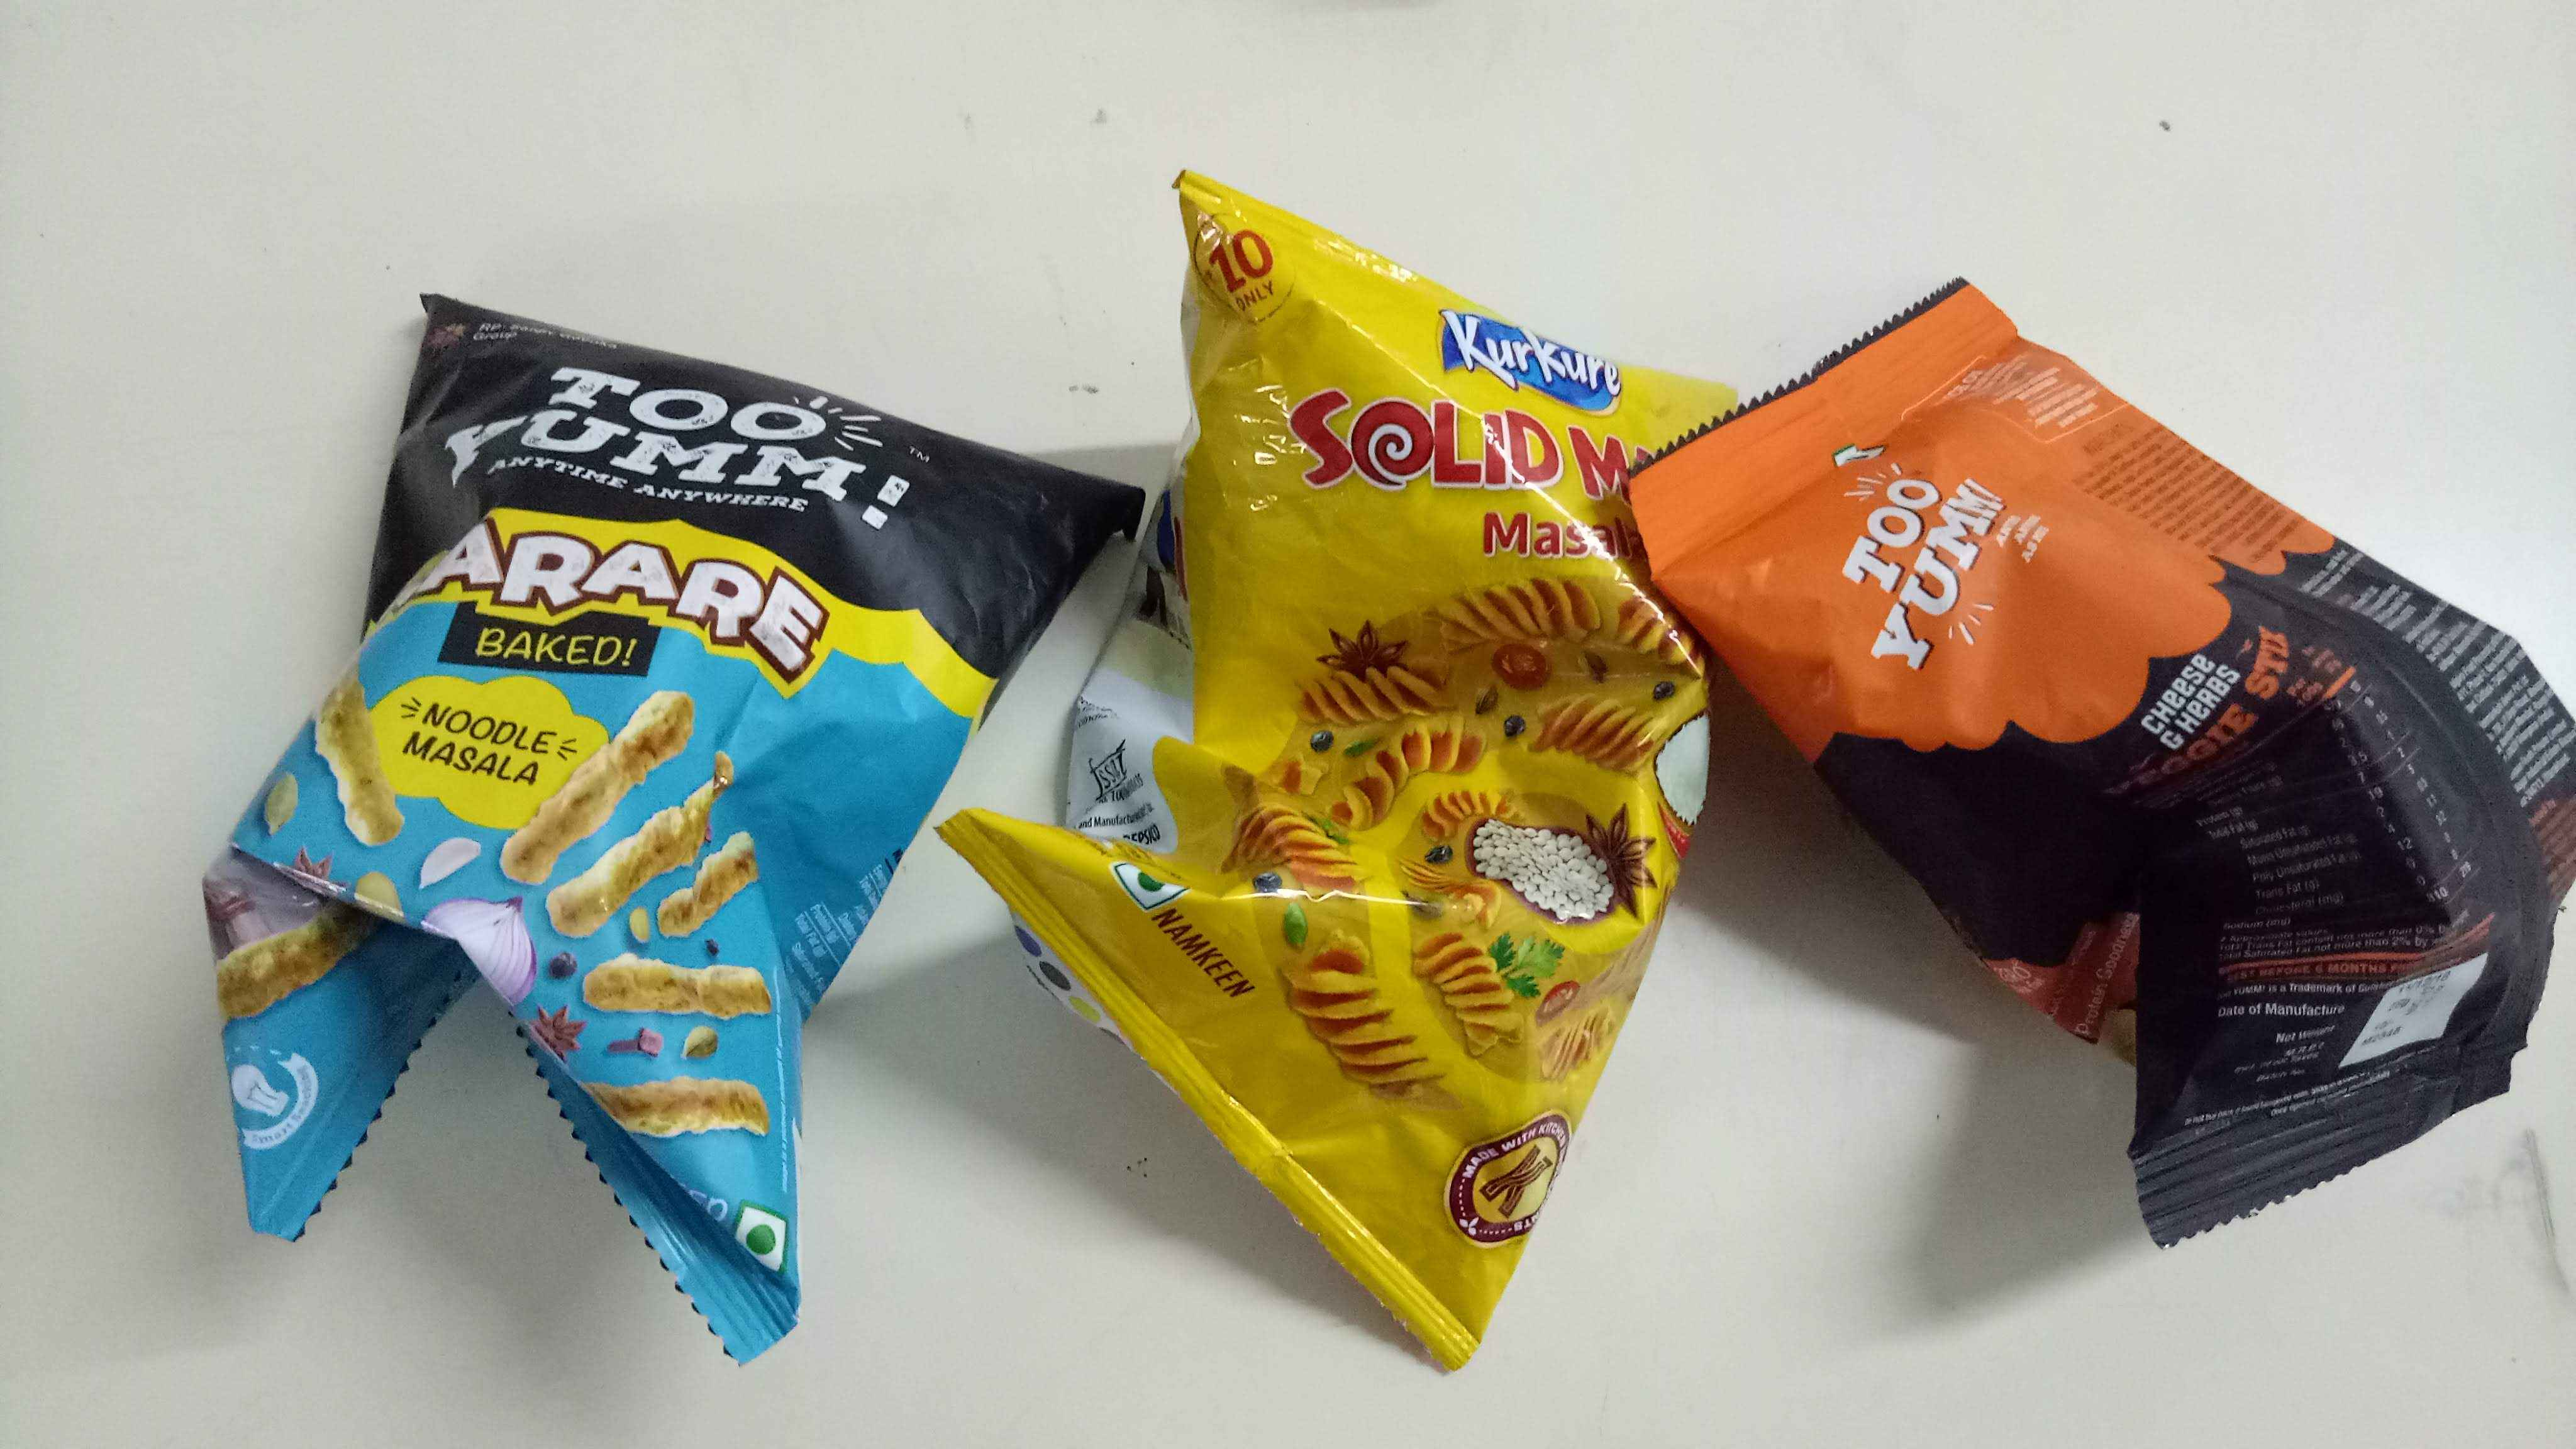kurkure: (1414, 306, 1656, 396)
tooyumm: (428, 395, 1003, 487), (1836, 456, 2036, 678)
